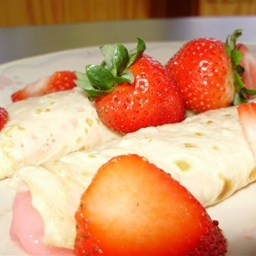background: (0, 11, 102, 102)
